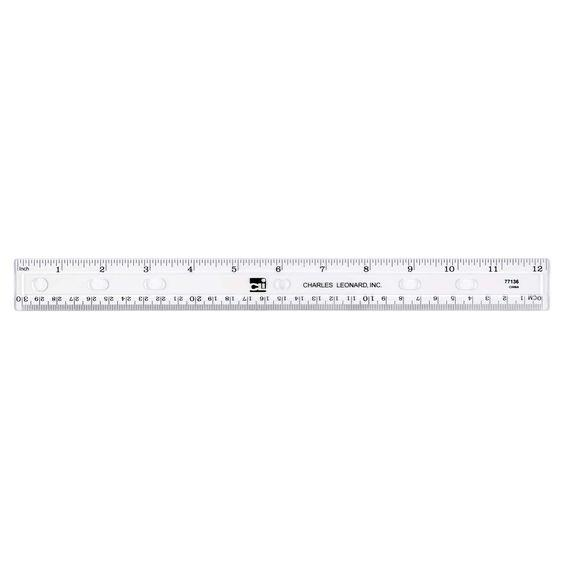PS: (12, 257, 551, 312)
